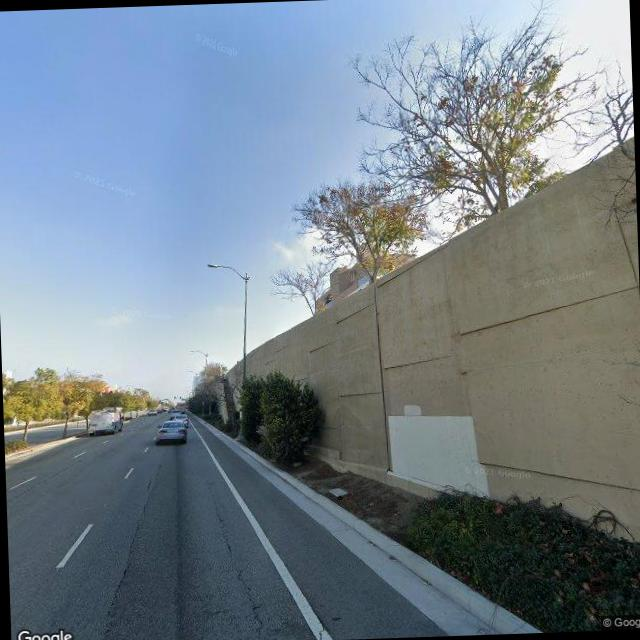pothole: (206, 484, 268, 640)
